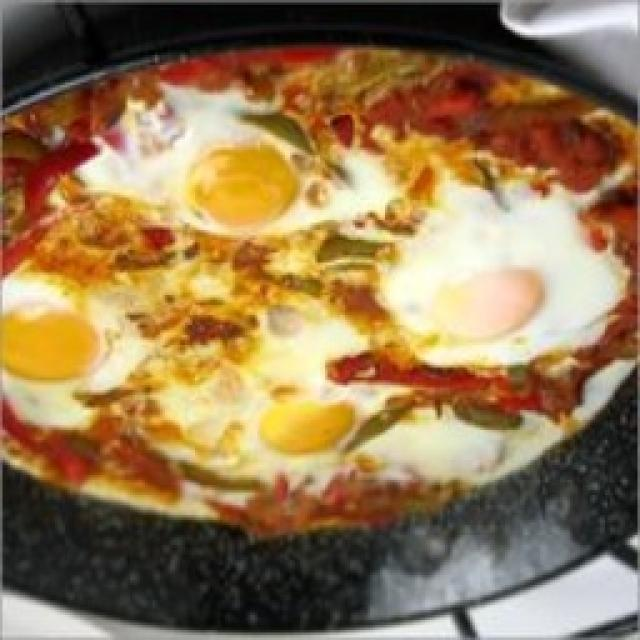Chakchouka: (0, 49, 636, 536)
